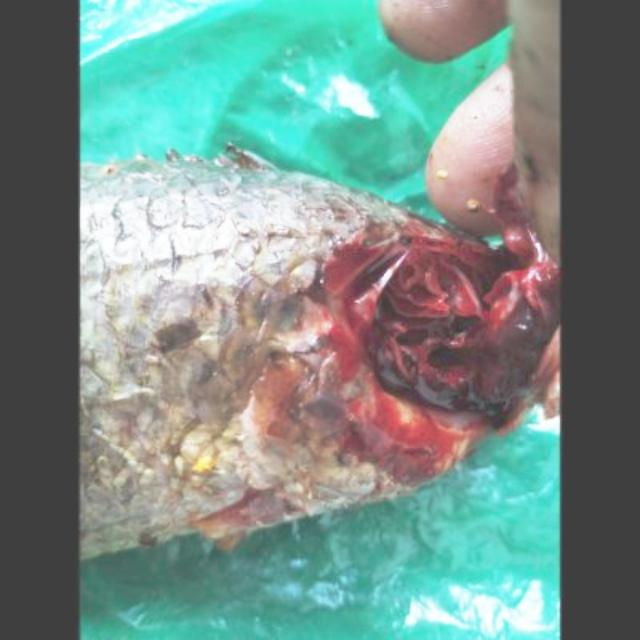Flavobacterium -Bacterial Gill Disease-: (82, 147, 557, 558), (76, 156, 559, 560)
